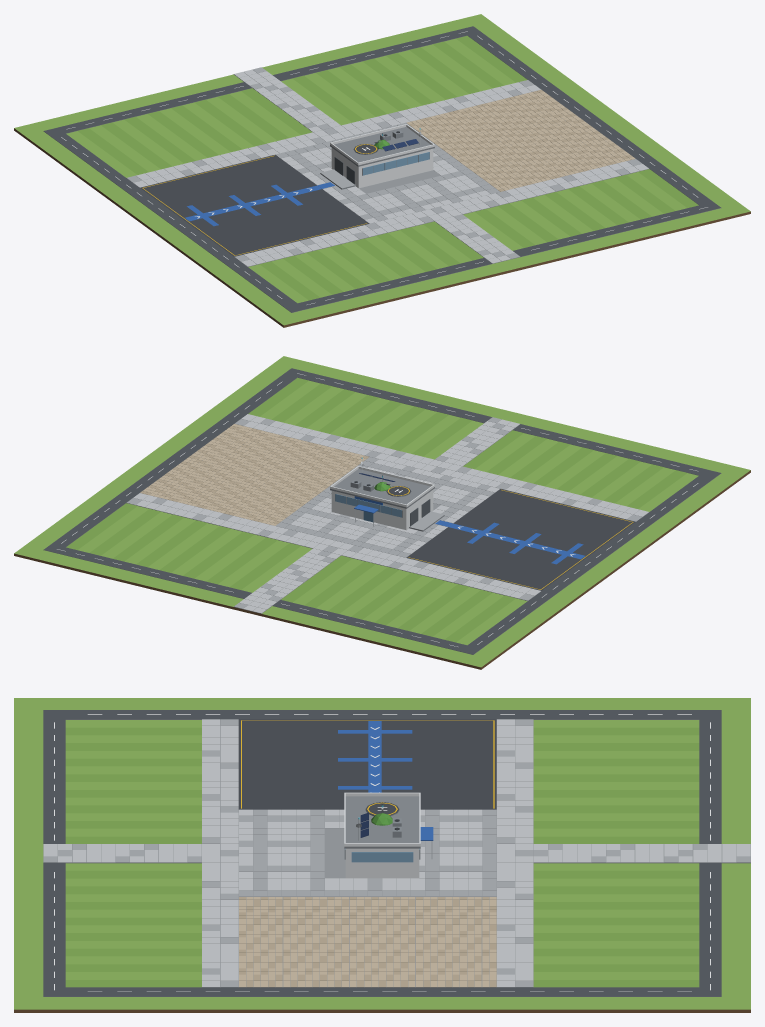
File: Park_B_Kit.fbx
3 views of the same model, one above another, from view 1: azimuth 30°, elevation 25°; view 2: azimuth 150°, elevation 25°; view 3: azimuth 270°, elevation 25° (orthographic). The views are drawn at different scales.
Visible parts, largest first — view 1: Park_B_Ground, Park_B_LawnStripes, Park_B_Path_ServiceLoop, Park_B_Paving_Rest, Park_B_Paving_Service, Park_B_Plaza_Hub, Park_B_Path_TransitEW_North, Park_B_Path_TransitEW_South, Park_B_ServiceHub, Park_B_Path_TransitNS, Park_B_DeliveryLanes; view 2: Park_B_Ground, Park_B_LawnStripes, Park_B_Path_ServiceLoop, Park_B_Paving_Rest, Park_B_Paving_Service, Park_B_Plaza_Hub, Park_B_Path_TransitEW_South, Park_B_Path_TransitEW_North, Park_B_ServiceHub, Park_B_Path_TransitNS, Park_B_DeliveryLanes; view 3: Park_B_Ground, Park_B_LawnStripes, Park_B_Path_ServiceLoop, Park_B_Paving_Rest, Park_B_Paving_Service, Park_B_Plaza_Hub, Park_B_Path_TransitEW_South, Park_B_Path_TransitEW_North, Park_B_Path_TransitNS, Park_B_ServiceHub, Park_B_DeliveryLanes.
Part boxes in pixels (box(x1,y1,x2,y2)): Park_B_Ground: box(14, 14, 750, 327); Park_B_LawnStripes: box(78, 35, 698, 300); Park_B_Path_ServiceLoop: box(43, 26, 721, 312); Park_B_Paving_Rest: box(406, 89, 635, 191); Park_B_Paving_Service: box(140, 155, 369, 256); Park_B_Plaza_Hub: box(275, 123, 499, 223); Park_B_Path_TransitEW_North: box(234, 159, 648, 266); Park_B_Path_TransitEW_South: box(127, 80, 540, 187); Park_B_ServiceHub: box(320, 124, 434, 189); Park_B_Path_TransitNS: box(233, 67, 520, 263); Park_B_DeliveryLanes: box(185, 182, 334, 226); Park_B_Ground: box(14, 356, 750, 669); Park_B_LawnStripes: box(66, 377, 686, 642); Park_B_Path_ServiceLoop: box(43, 368, 721, 654); Park_B_Paving_Rest: box(140, 424, 368, 525); Park_B_Paving_Service: box(406, 489, 635, 590); Park_B_Plaza_Hub: box(276, 457, 499, 557); Park_B_Path_TransitEW_South: box(126, 493, 540, 600); Park_B_Path_TransitEW_North: box(234, 414, 648, 521); Park_B_ServiceHub: box(330, 457, 444, 531); Park_B_Path_TransitNS: box(234, 417, 519, 613); Park_B_DeliveryLanes: box(435, 520, 584, 564); Park_B_Ground: box(14, 698, 750, 1012); Park_B_LawnStripes: box(65, 727, 699, 987); Park_B_Path_ServiceLoop: box(43, 710, 721, 996); Park_B_Paving_Rest: box(238, 897, 496, 987); Park_B_Paving_Service: box(238, 719, 496, 809); Park_B_Plaza_Hub: box(238, 809, 496, 896); Park_B_Path_TransitEW_South: box(496, 719, 533, 987); Park_B_Path_TransitEW_North: box(202, 719, 238, 987); Park_B_Path_TransitNS: box(43, 844, 750, 863); Park_B_ServiceHub: box(344, 792, 433, 878); Park_B_DeliveryLanes: box(338, 721, 412, 792).
Size of the model in its own units: 100 by 8.78 by 100.
